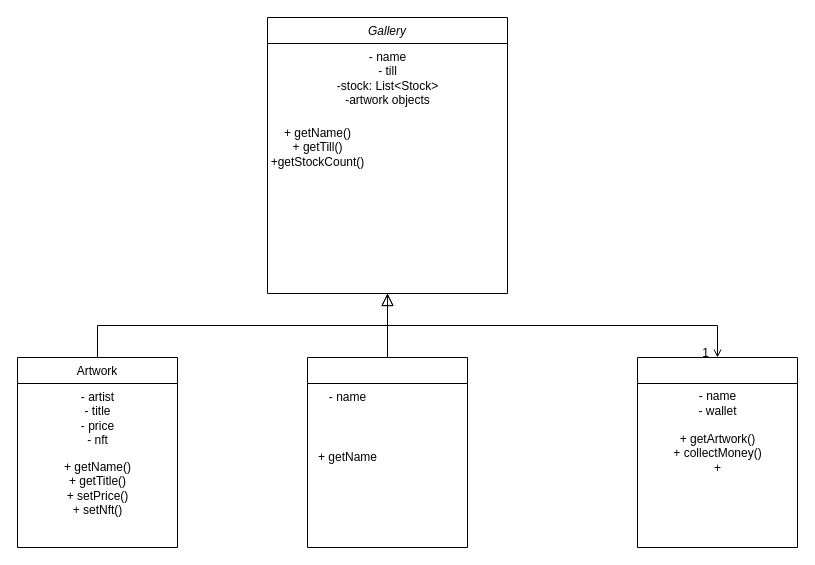
This 815x565 diagram has some shape labels left out. Each missing label, with the box of its shape:
Artists: (306, 356, 468, 548)
Customers: (636, 356, 798, 548)
